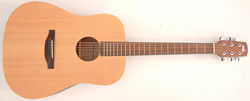guitar: (1, 1, 250, 98)
